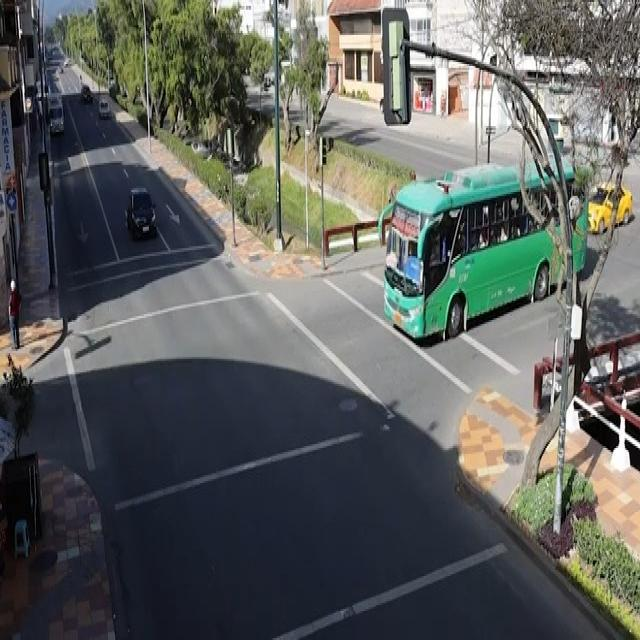BUS: (380, 170, 584, 346)
